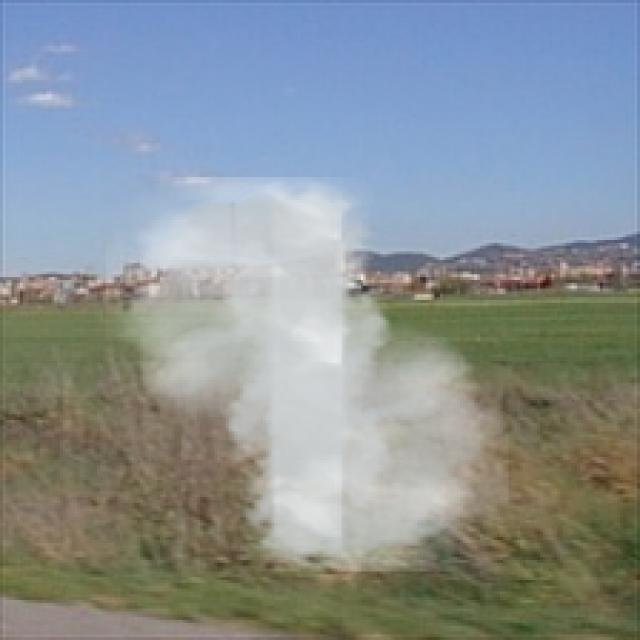smoke: (106, 177, 508, 572)
